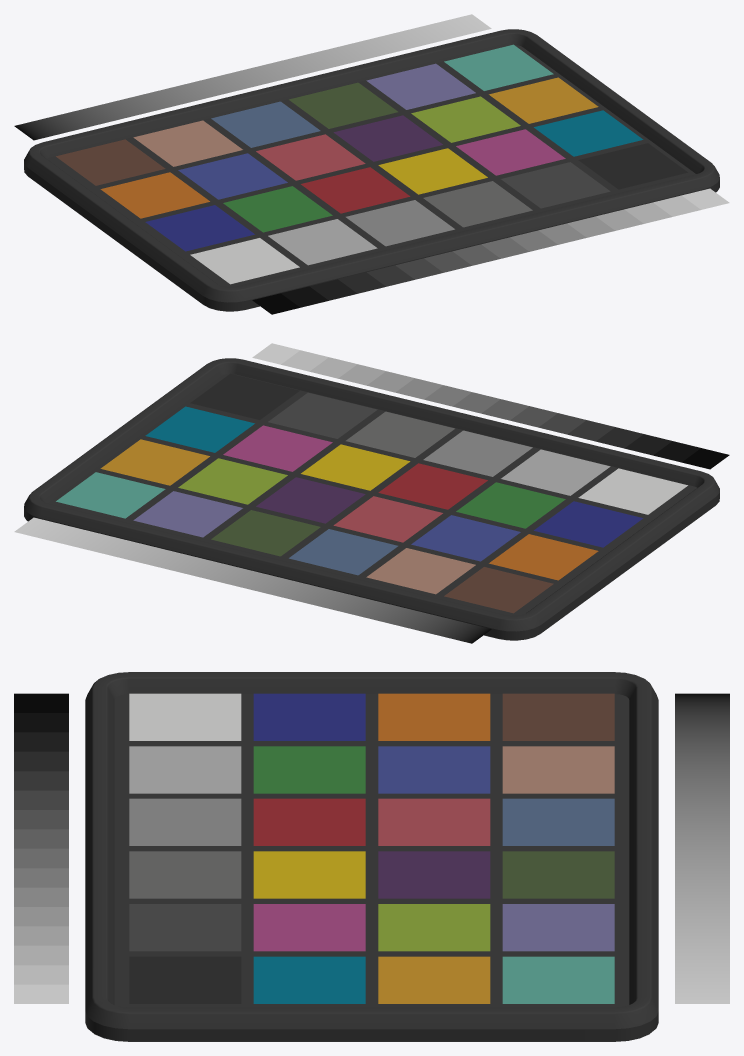
File: SM_MacBethChart.FBX
The picture shows the model from 3 angles, top to bottom: view 1: azimuth 30°, elevation 25°; view 2: azimuth 150°, elevation 25°; view 3: azimuth 270°, elevation 25°; orthographic projection. The views are drawn at different scales.
Visible parts, largest first — view 1: SM_MacBethChart; view 2: SM_MacBethChart; view 3: SM_MacBethChart.
Boxes of the visible parts, x1,y1,x2,y2 form: SM_MacBethChart: [14, 14, 729, 314]; SM_MacBethChart: [14, 343, 729, 643]; SM_MacBethChart: [14, 672, 729, 1041].
Size of the model in its own units: 112 by 97.5 by 4.
